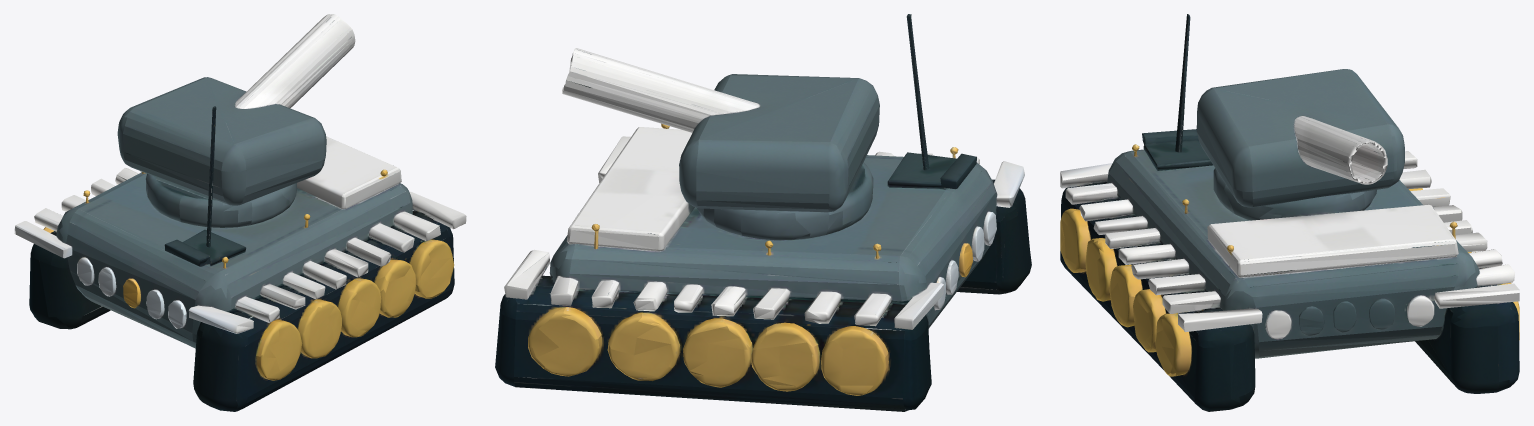
File: breach-tank.glb
The picture shows the model from 3 angles, left to right: view 1: azimuth 30°, elevation 25°; view 2: azimuth 150°, elevation 25°; view 3: azimuth 270°, elevation 25°; orthographic projection. The views are drawn at different scales.
Size of the model in its own units: 0.9395 by 0.6641 by 1.
1 material, 1 textured.
